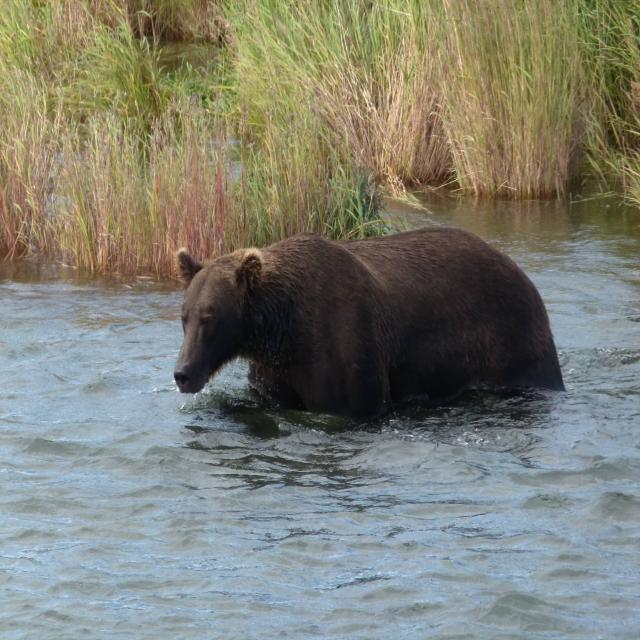bear face: (173, 228, 566, 404)
